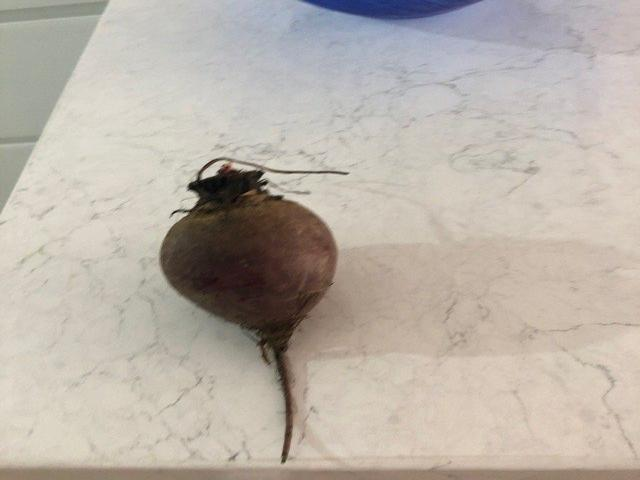beet: (161, 156, 350, 463)
